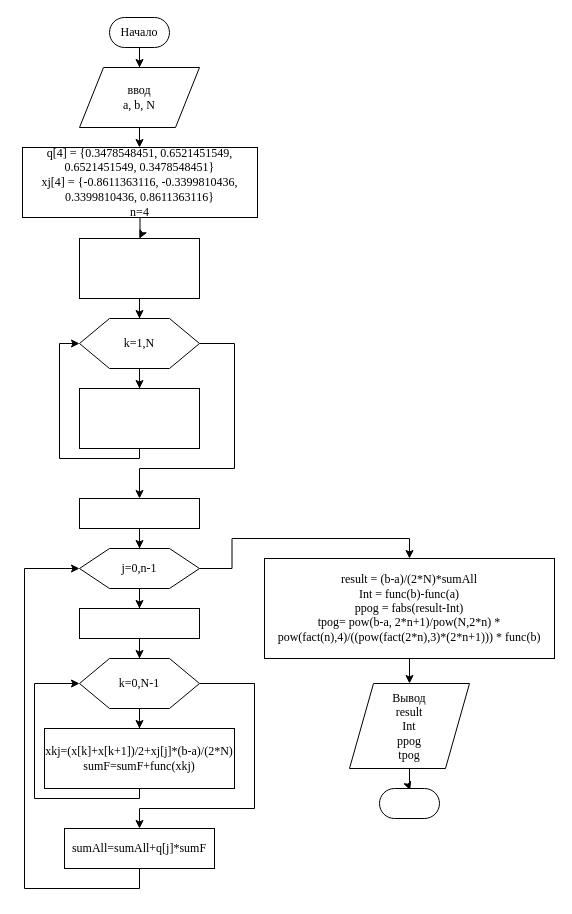
Some shapes in this 572 by 914 pixel diagram are drawn without their labels. Here are the shapes that lost their labels. From the top down, the box of each, then its label:
(78, 238, 200, 298): h= (b-a)/N x[0] = a
(78, 388, 200, 448): x[k]=x[k-1]+h
(78, 498, 200, 528): sumAll = 0
(78, 608, 200, 638): sumF=0
(378, 788, 440, 818): Конец
